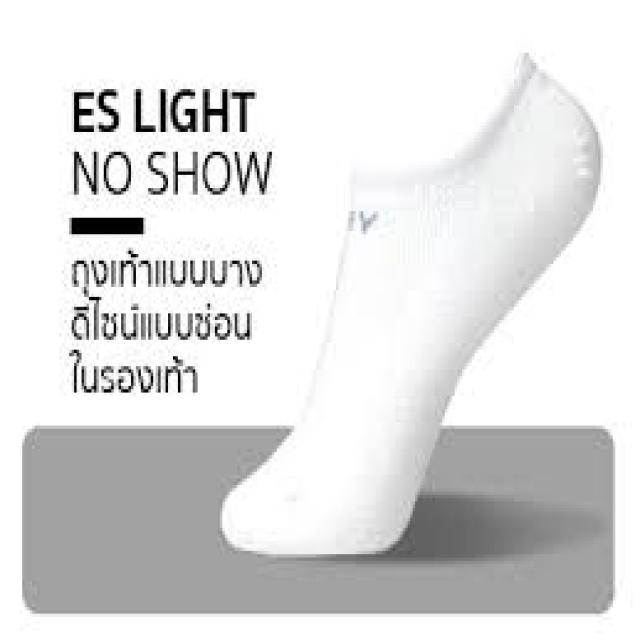sock: (218, 50, 600, 558)
